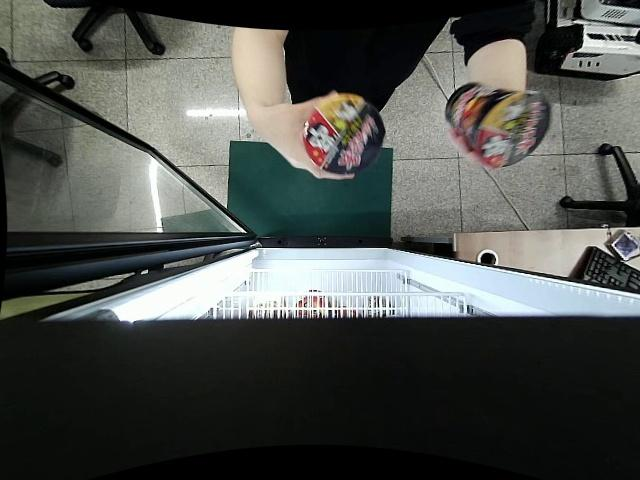00_hand: (255, 90, 360, 184), (447, 124, 496, 175)
08_buldak_S: (446, 82, 553, 166), (303, 93, 386, 173)
